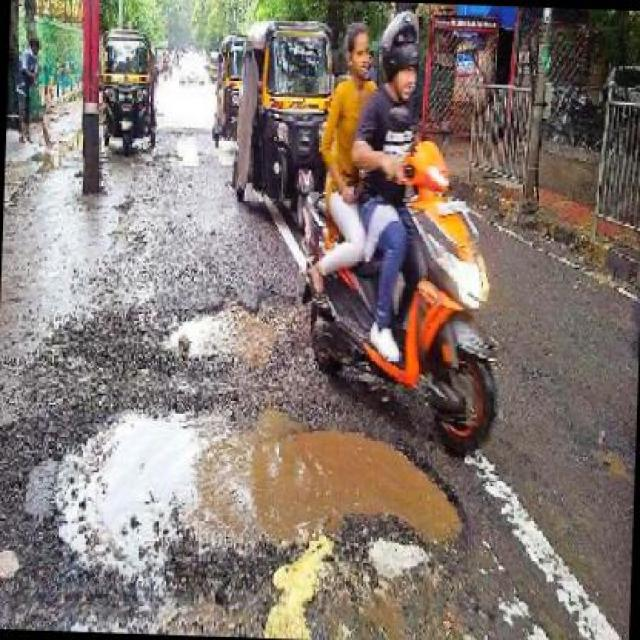pothole: (48, 395, 475, 583), (159, 284, 283, 365)
